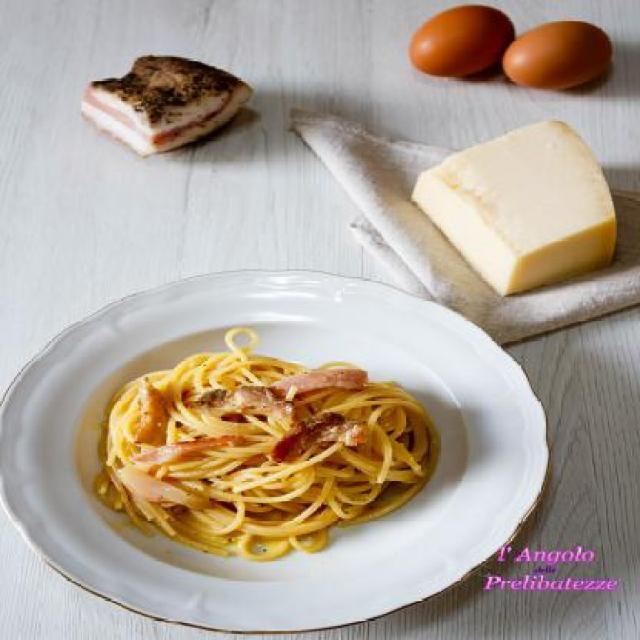Pasta with carbonara sauce: (64, 310, 560, 598)
